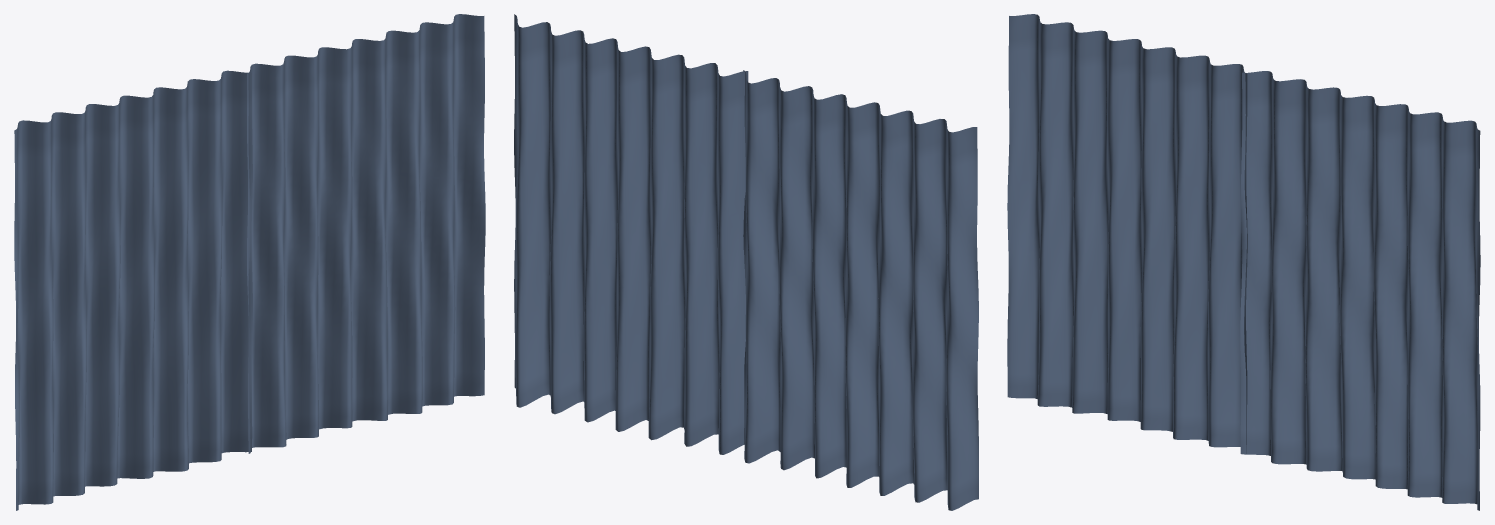
File: room-curtain.glb
3 views of the same model, side by side, from view 1: azimuth 30°, elevation 25°; view 2: azimuth 150°, elevation 25°; view 3: azimuth 330°, elevation 25° (orthographic).
Parts seen in each view (by area): view 1: left, right; view 2: left, right; view 3: right, left.
Part boxes in pixels (x1=…): left: x1=14, y1=70, x2=252, y2=510; right: x1=247, y1=14, x2=485, y2=453; left: x1=743, y1=70, x2=978, y2=510; right: x1=514, y1=14, x2=748, y2=454; right: x1=1240, y1=71, x2=1480, y2=510; left: x1=1007, y1=14, x2=1247, y2=453.
Size of the model in its own units: 3.76 by 2.95 by 0.2259.
